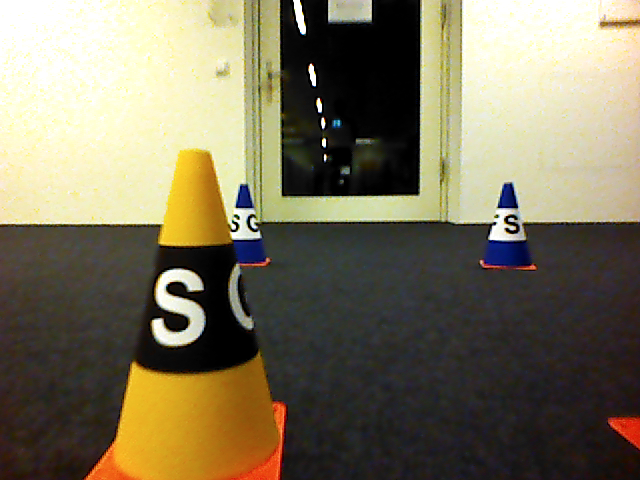bluecone: (477, 181, 539, 274), (232, 183, 274, 268)
yellowcone: (84, 149, 288, 480)
